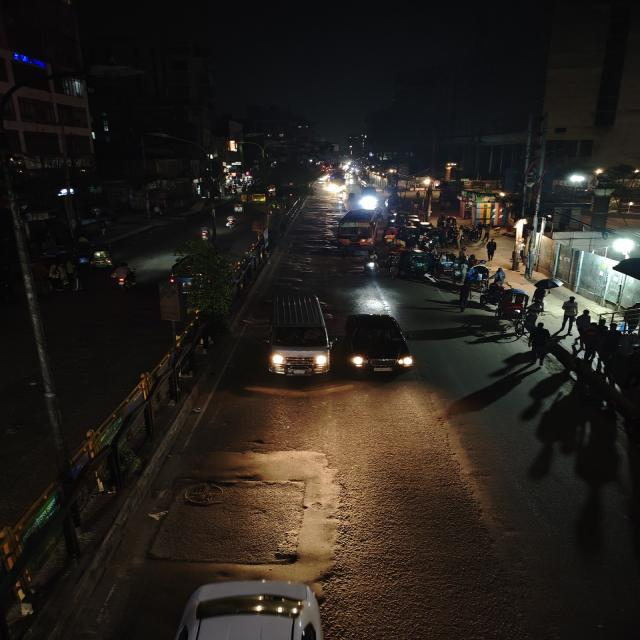bus: (336, 208, 380, 248), (327, 170, 347, 192)
car: (163, 577, 335, 640), (261, 279, 337, 380), (341, 309, 417, 382)
cng: (77, 243, 115, 270)
motorcycle: (107, 261, 138, 292), (362, 249, 381, 276), (196, 222, 217, 242), (224, 210, 238, 230)
pedestrian: (526, 322, 552, 366), (531, 276, 557, 306), (559, 294, 581, 326), (467, 264, 488, 290), (521, 254, 536, 281), (483, 238, 499, 262), (491, 266, 508, 288), (578, 306, 595, 328), (517, 252, 530, 276), (509, 249, 522, 271)
rickshaw: (382, 224, 400, 243)
